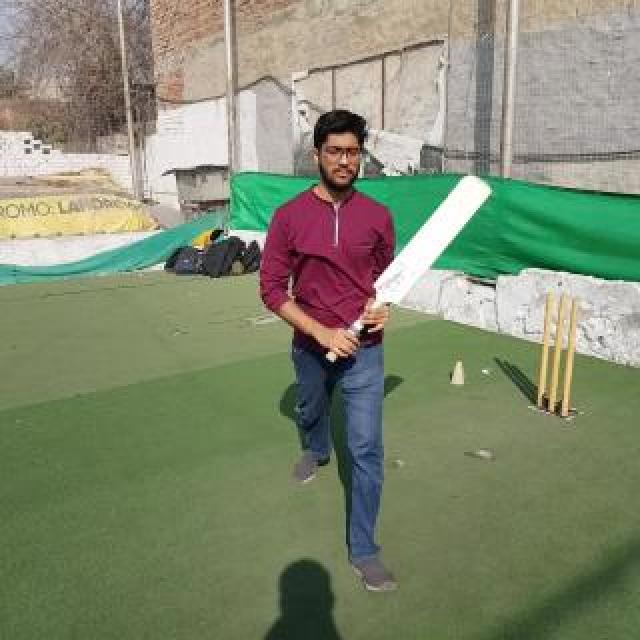bat: (326, 174, 492, 362)
